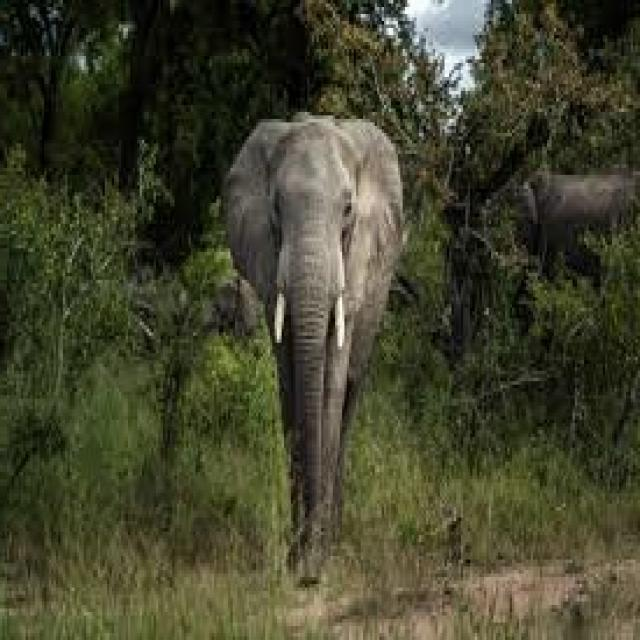elephant: (226, 112, 405, 574)
